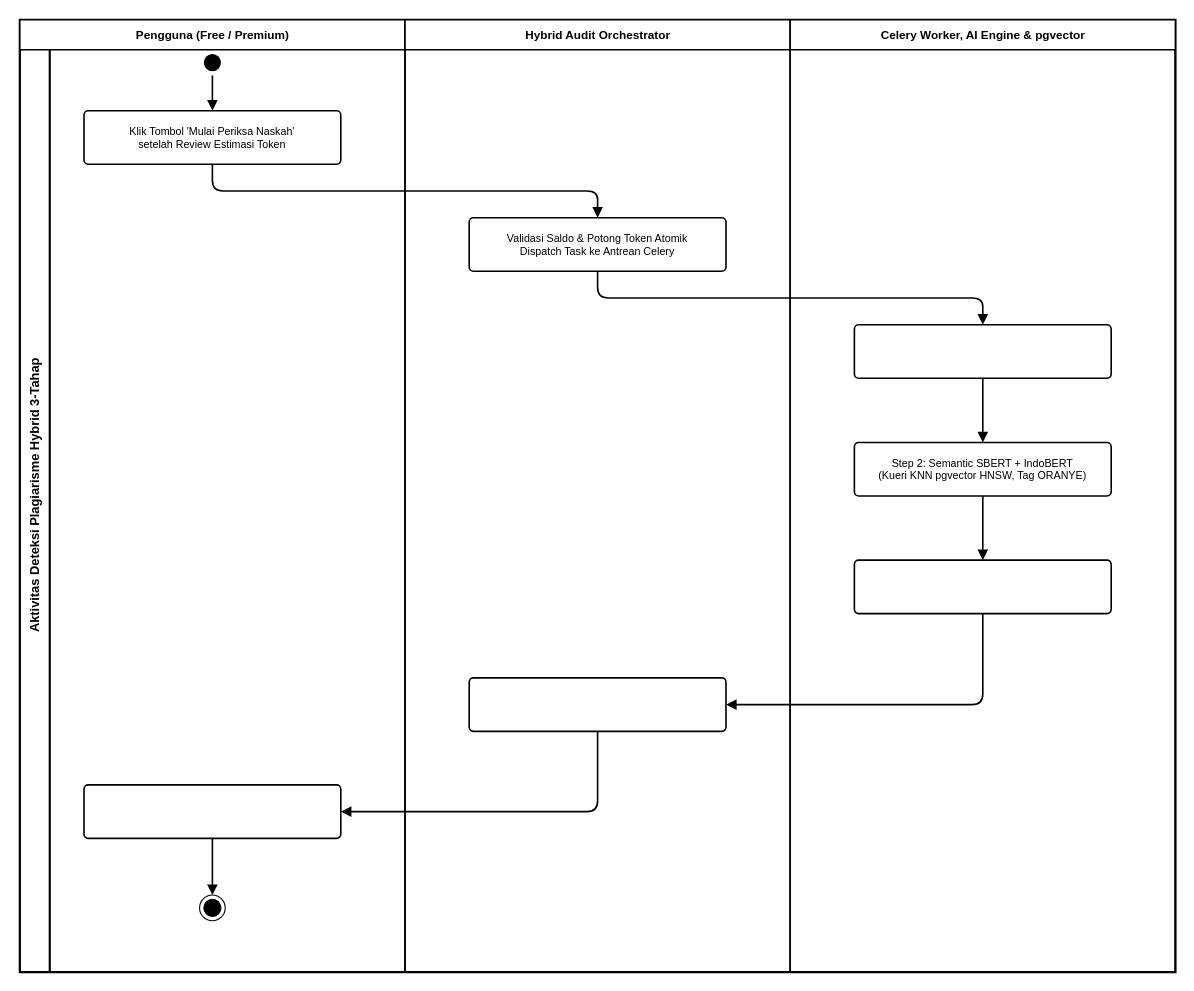
Image size: 1194x991. Some labels were removed from this diagram. The centre of each missing label's shape, as x and y in pixels:
Kalkulasi Skor Komposit Akhir: (0.50 Leks + 0.35 Sem + 0.15 Stil): point (597, 704)
Render Interactive Heatmap & Indikator Persentase di Workspace: point (212, 811)
Step 1: Winnowing Lexical Match (Rabin-Karp Rolling Hash, Tag MERAH): point (982, 351)
Step 3: Stilometri (Burstiness, TTR) & Gemini Contextual AI Judge (Tag KUNING): point (982, 586)
